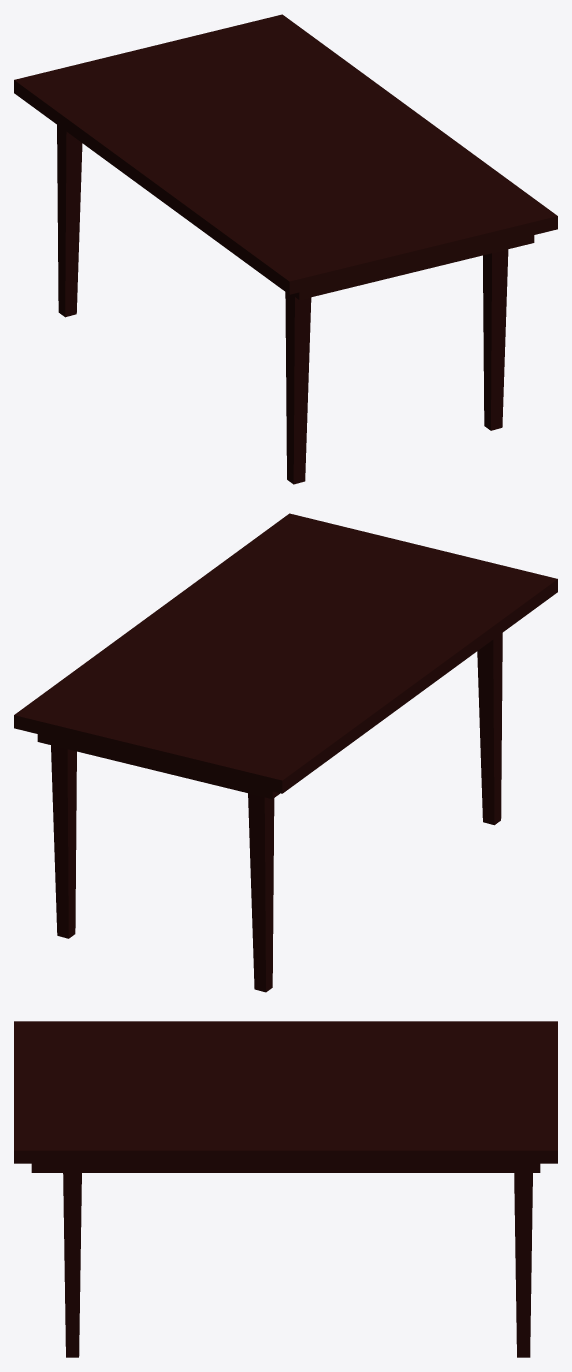
Rendered from Table.fbx.
3 renders of one model, top to bottom at view 1: azimuth 30°, elevation 25°; view 2: azimuth 150°, elevation 25°; view 3: azimuth 270°, elevation 25°, orthographic.
Parts seen in each view (by area): view 1: Cube.005; view 2: Cube.005; view 3: Cube.005.
Part boxes in pixels (x1,y1,x2,y2): Cube.005: (14,14,557,484); Cube.005: (14,513,557,992); Cube.005: (14,1021,557,1357).
Size of the model in its own units: 251 by 206 by 447.
